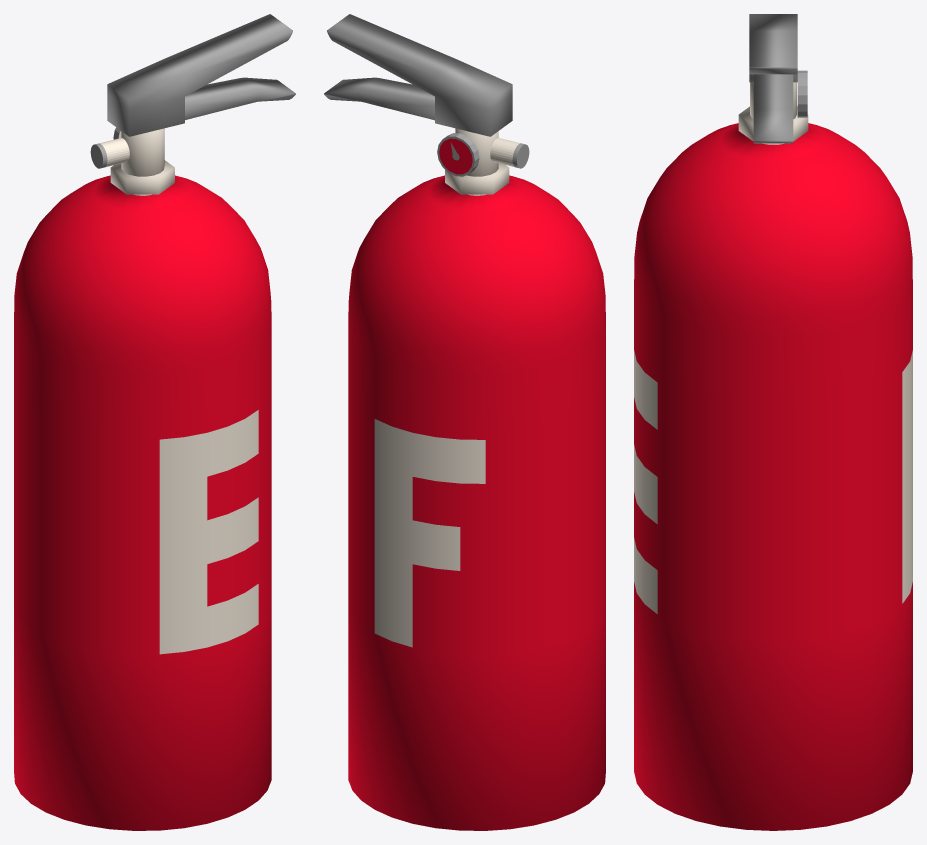
File: testglb.glb
3 views of the same model, side by side, from view 1: azimuth 30°, elevation 25°; view 2: azimuth 150°, elevation 25°; view 3: azimuth 270°, elevation 25° (orthographic). The views are drawn at different scales.
Visible parts, largest first — view 1: Cylinder; view 2: Cylinder; view 3: Cylinder.
Boxes of the visible parts, <box> form: Cylinder: <box>14,14,295,830</box>; Cylinder: <box>324,14,605,830</box>; Cylinder: <box>634,14,912,830</box>.
Size of the model in its own units: 0.686 by 1.85 by 0.6.
